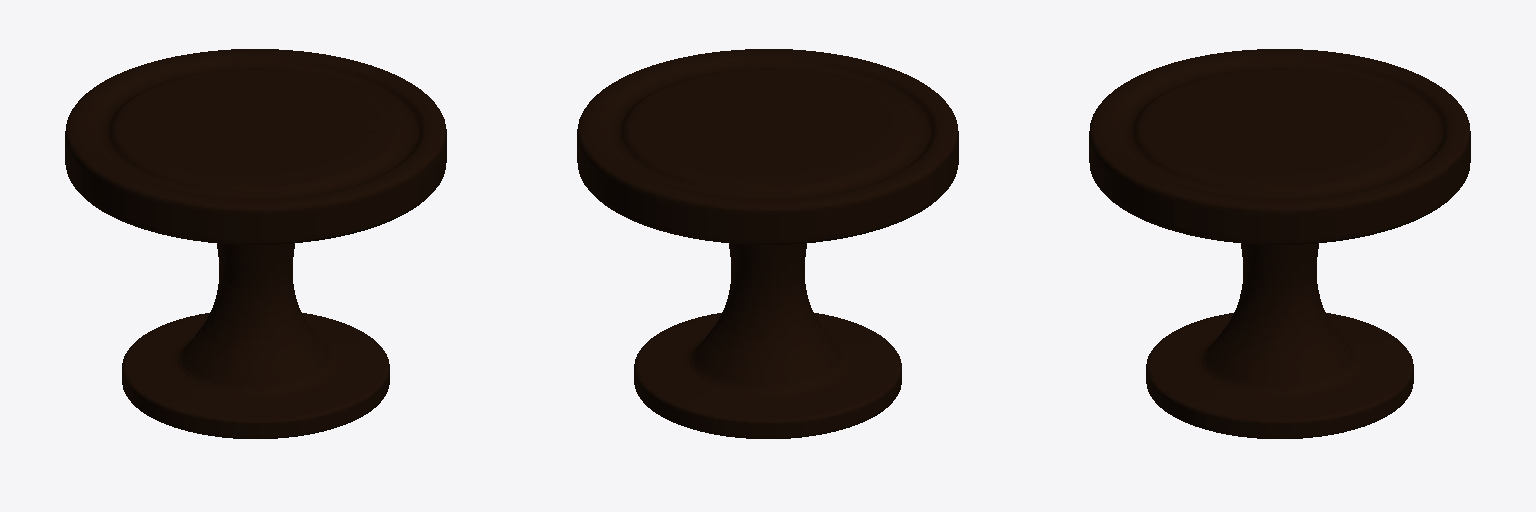
File: table.obj
The picture shows the model from 3 angles: view 1: azimuth 30°, elevation 25°; view 2: azimuth 150°, elevation 25°; view 3: azimuth 270°, elevation 25°; orthographic projection.
Visible parts, largest first — view 1: Cylinder.010; view 2: Cylinder.010; view 3: Cylinder.010.
Boxes of the visible parts, <box> form: Cylinder.010: <box>65,49,446,438</box>; Cylinder.010: <box>577,49,958,438</box>; Cylinder.010: <box>1089,49,1470,438</box>.
Bounding box in the file's own units: 1.4 × 1.05 × 1.4.